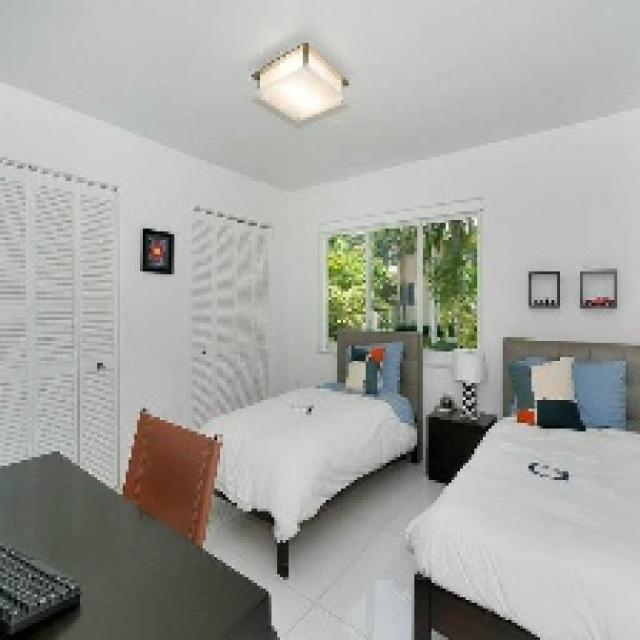Bed: (403, 334, 637, 637), (194, 326, 423, 577)
